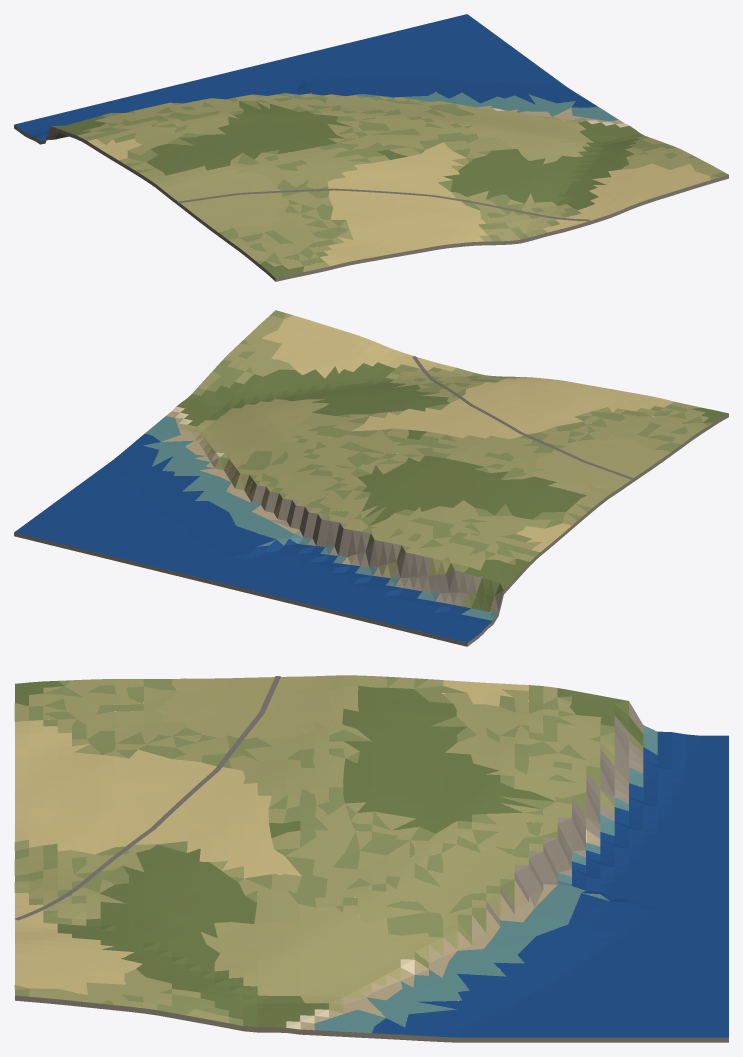
Rendered from parca_+9_+2-uzak.glb.
The picture shows the model from 3 angles, top to bottom: view 1: azimuth 30°, elevation 25°; view 2: azimuth 150°, elevation 25°; view 3: azimuth 270°, elevation 25°; orthographic projection. The views are drawn at different scales.
Parts seen in each view (by area): view 1: parca_+9_+2_arazi_uzak, parca_+9_+2_yollar_uzak; view 2: parca_+9_+2_arazi_uzak, parca_+9_+2_yollar_uzak; view 3: parca_+9_+2_arazi_uzak, parca_+9_+2_yollar_uzak.
Part boxes in pixels (x1,y1,x2,y2): parca_+9_+2_arazi_uzak: [14, 14, 728, 281]; parca_+9_+2_yollar_uzak: [177, 188, 589, 221]; parca_+9_+2_arazi_uzak: [14, 310, 728, 646]; parca_+9_+2_yollar_uzak: [412, 356, 634, 479]; parca_+9_+2_arazi_uzak: [14, 675, 728, 1042]; parca_+9_+2_yollar_uzak: [14, 676, 280, 920].
Size of the model in its own units: 1003 by 103 by 1001.
